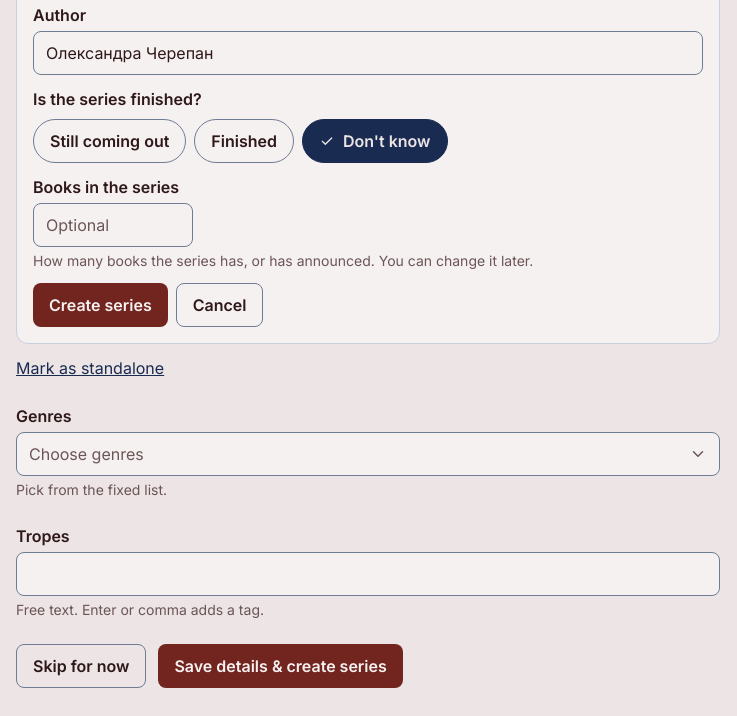
Scenario: AddDetails › a book with no series yet › does not touch the book when the series cannot be created
This screenshot has width=737, height=716.
(page scrolled)
Click the button "Save details & create series": (281, 666) x1=158 y1=644 x2=403 y2=688
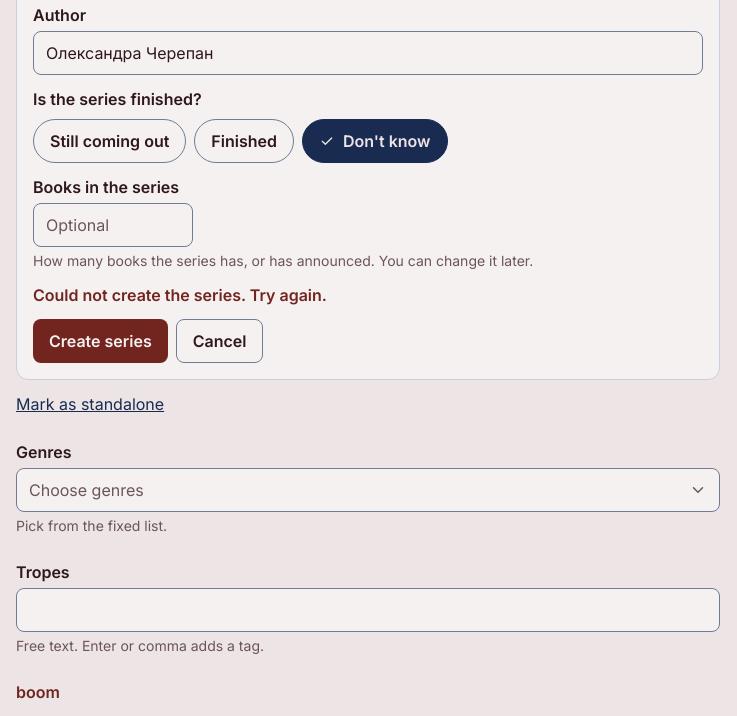
Result: the text "Could not create the series. Try again." is shown at x1=33 y1=285 x2=327 y2=305
